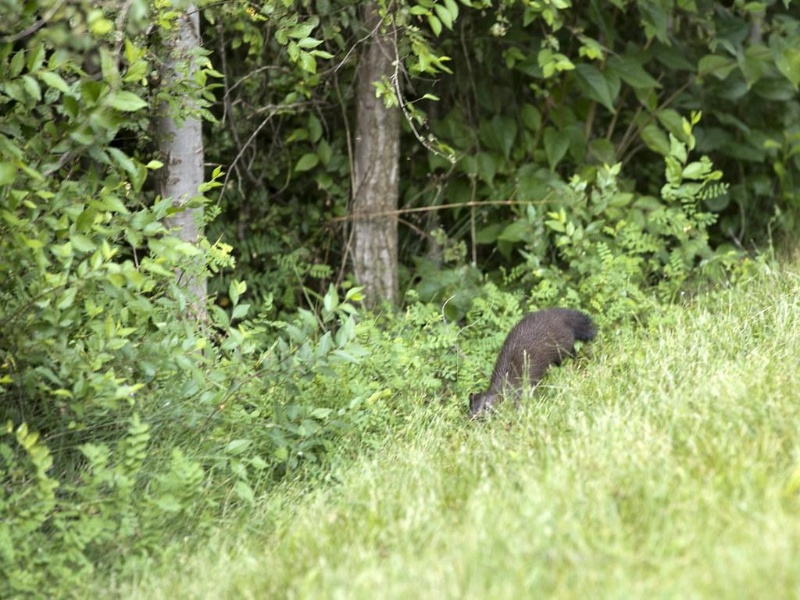minkish: (465, 303, 600, 426)
